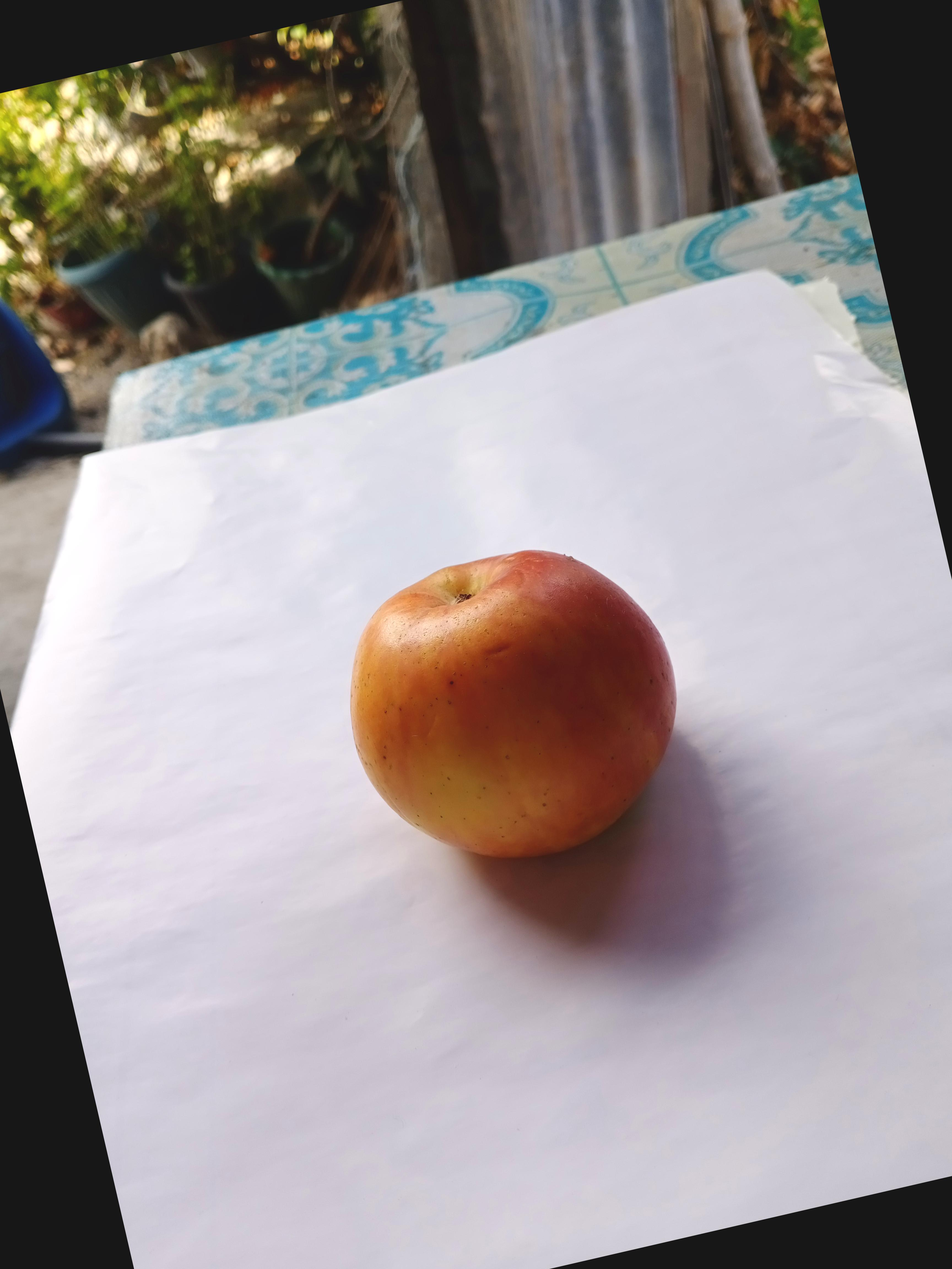Apple Ripe: (147, 657, 577, 1081)
